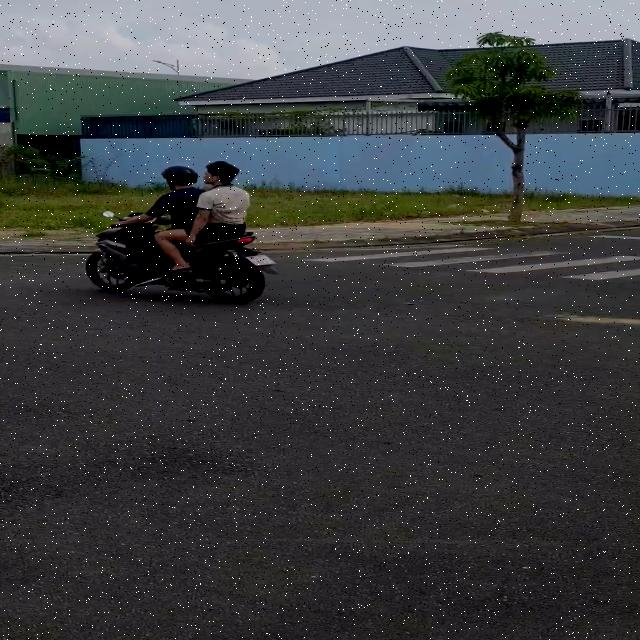helmet: (158, 166, 198, 198)
no_helmet: (206, 156, 238, 194)
